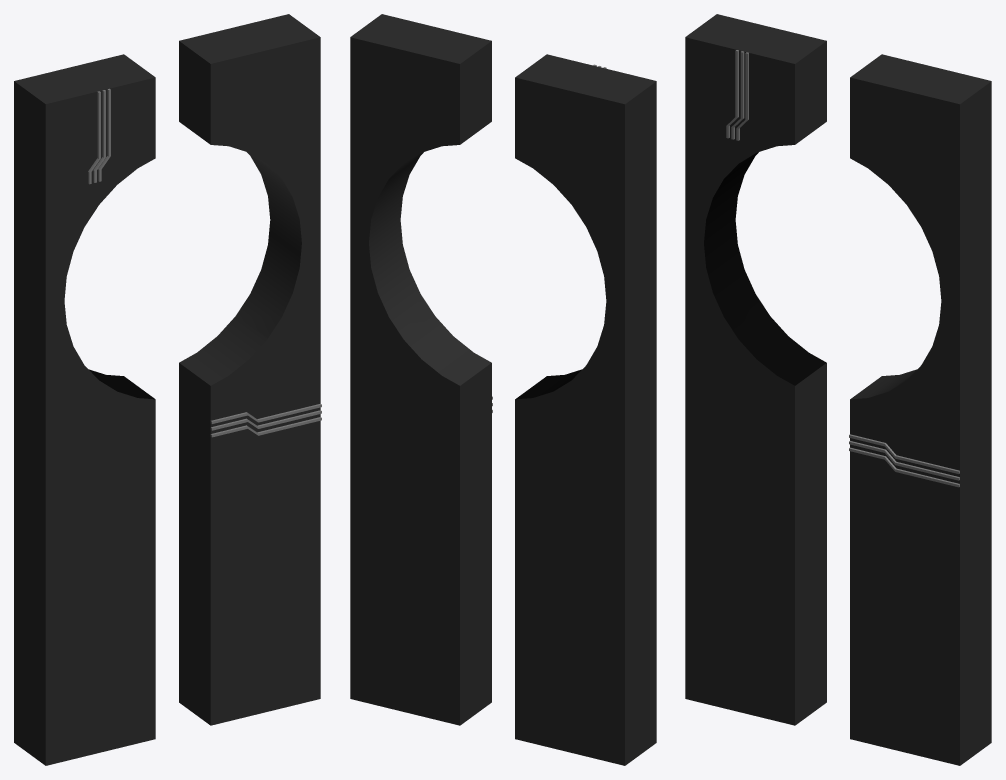
File: statue 1.fbx
3 renders of one model, left to right at view 1: azimuth 30°, elevation 25°; view 2: azimuth 150°, elevation 25°; view 3: azimuth 330°, elevation 25°, orthographic.
Parts seen in each view (by area): view 1: Cube.009, Cube.001; view 2: Cube.009, Cube.001; view 3: Cube.009, Cube.001.
Part boxes in pixels (x1,y1,x2,y2): Cube.009: (14,14,321,765); Cube.001: (89,152,301,399); Cube.009: (350,14,656,765); Cube.001: (369,152,581,399); Cube.009: (685,14,991,765); Cube.001: (704,152,916,399).
Bounding box in the file's own units: 1000 × 2300 × 208.
